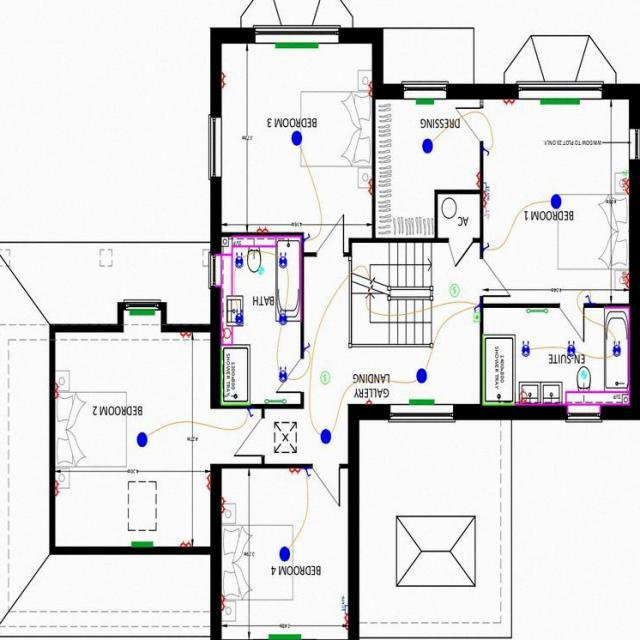Cat 6 Data Socket: (342, 597, 349, 615), (484, 184, 491, 202)
Ceiling Mounted Continuous Extract FanWith Boost Mode Activated By Light Switch: (258, 268, 265, 275), (582, 372, 588, 380)
Co-Ax TV Socket: (484, 208, 490, 220)
Double Socket: (206, 474, 212, 492), (256, 227, 270, 234), (222, 595, 228, 611), (222, 498, 228, 514), (484, 193, 490, 209), (222, 72, 228, 88), (476, 172, 481, 189), (368, 81, 373, 98), (181, 333, 193, 340), (56, 481, 61, 497), (56, 383, 61, 399), (368, 180, 373, 196), (290, 469, 301, 476), (344, 616, 349, 631), (181, 542, 193, 548), (504, 100, 516, 106)
Full Height Tiling: (484, 337, 514, 407), (222, 346, 251, 406)
Light Switch: (585, 296, 595, 305), (304, 344, 312, 353), (248, 410, 255, 419), (305, 470, 312, 478), (474, 306, 482, 313), (484, 148, 490, 157), (304, 234, 310, 243), (484, 244, 490, 252)
Low Energy Downlighter: (613, 341, 622, 358), (280, 253, 289, 269), (568, 341, 576, 358), (523, 341, 531, 358), (280, 367, 288, 384), (236, 310, 244, 327), (280, 310, 288, 327), (236, 253, 244, 269)
Low Energy Pendant Light: (280, 546, 291, 563), (292, 131, 303, 147), (138, 432, 148, 449), (321, 430, 332, 445), (417, 369, 428, 384), (423, 140, 434, 154), (552, 195, 562, 210)
Mains Wired Smoke Detector: (450, 285, 461, 298), (321, 372, 331, 386)
Programmable Room Thermostat: (474, 314, 482, 323)
Radiator: (541, 100, 581, 106), (276, 44, 319, 49), (269, 635, 302, 640), (410, 400, 436, 406), (130, 310, 156, 316), (132, 542, 155, 548), (417, 100, 435, 106)
Shaver Socket: (519, 389, 529, 406), (223, 328, 233, 339)
Single Socket: (367, 399, 373, 406)
Telephone Socket: (623, 171, 630, 179)
USB Double Socket: (622, 273, 631, 289), (623, 179, 630, 196)
